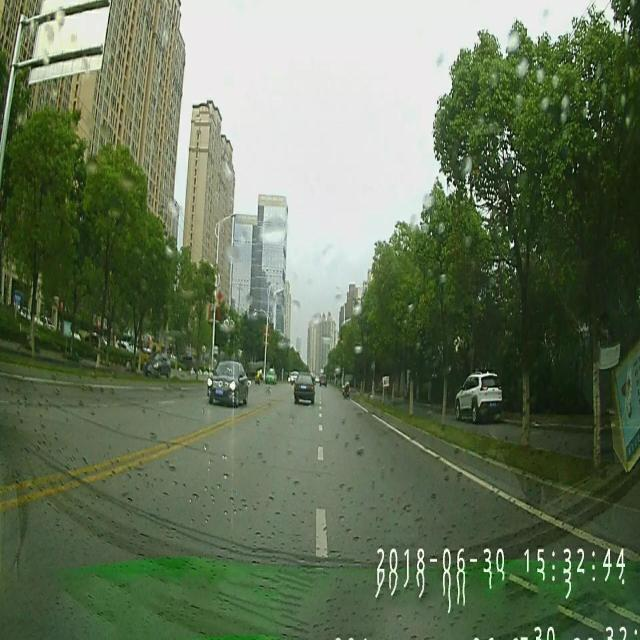car: (454, 372, 502, 424), (206, 364, 248, 406), (292, 368, 314, 407), (144, 352, 170, 380), (321, 370, 327, 388)
